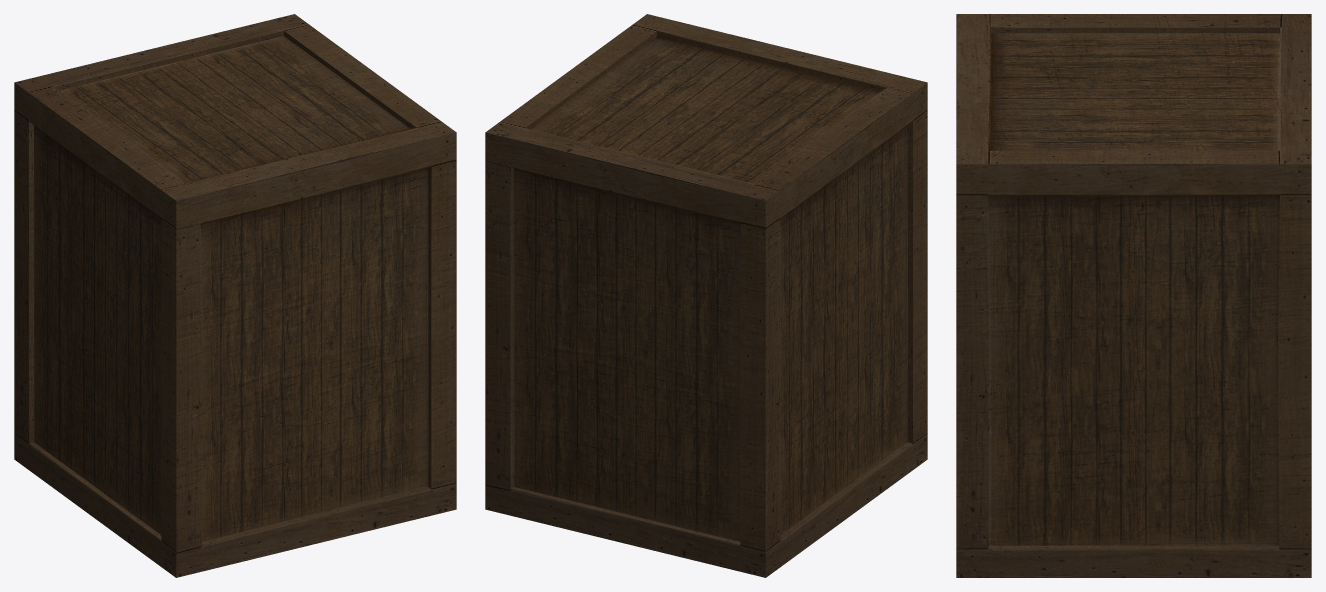
The model's file is wooden_crate_hx_2_1.dae.
3 renders of one model, left to right at view 1: azimuth 30°, elevation 25°; view 2: azimuth 150°, elevation 25°; view 3: azimuth 270°, elevation 25°, orthographic. The views are drawn at different scales.
Visible parts, largest first — view 1: wooden_crate_hx_2_1; view 2: wooden_crate_hx_2_1; view 3: wooden_crate_hx_2_1.
Part boxes in pixels (x1,y1,x2,y2): wooden_crate_hx_2_1: (14,14,456,577); wooden_crate_hx_2_1: (485,14,927,577); wooden_crate_hx_2_1: (956,14,1311,577).
Bounding box in the file's own units: 1.4 × 1.4 × 1.8.
1 material, 1 textured.
